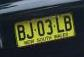0: (37, 21, 45, 36)
3: (44, 19, 53, 35)
B: (63, 15, 73, 31), (17, 24, 26, 40)
J: (27, 22, 34, 39)
L: (55, 16, 64, 33)
